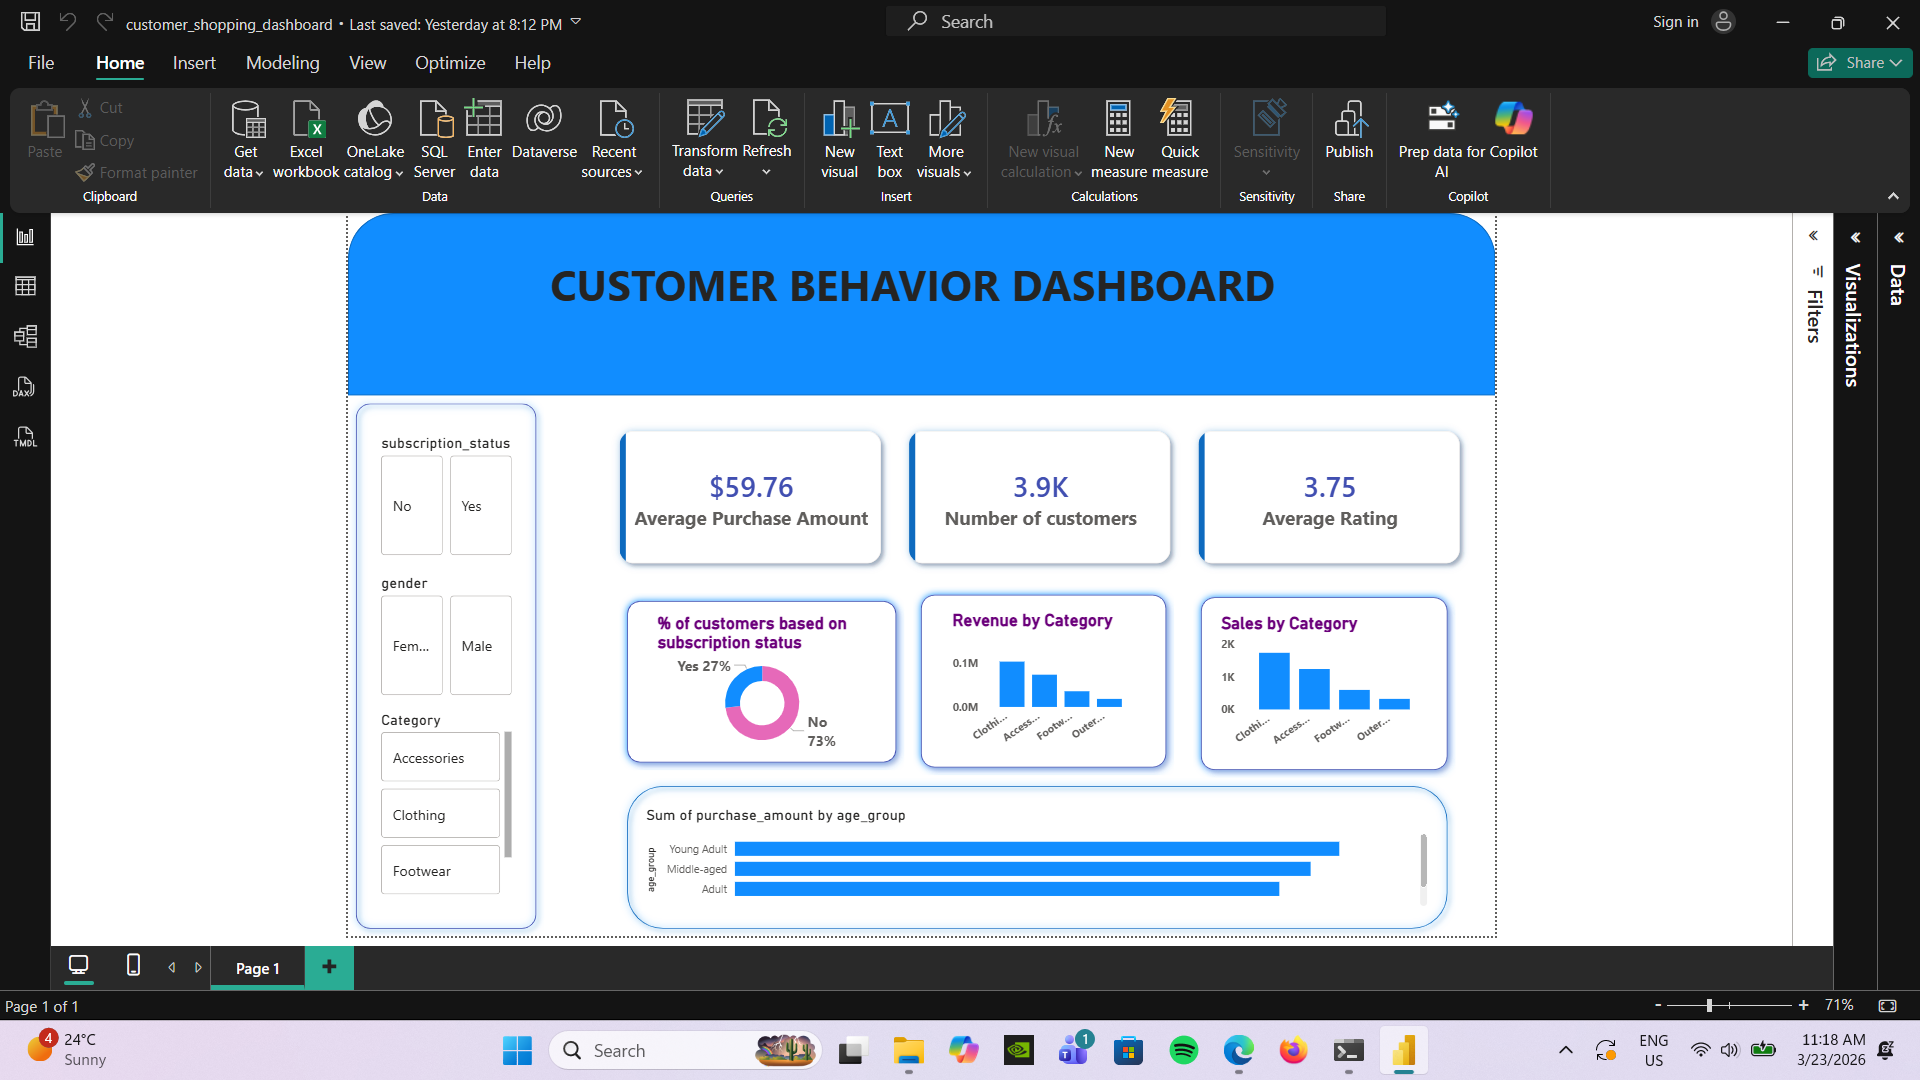

Layout of this report page (visuals, bound fields, positions):
{"tool":"powerbi","page":{"name":"Page 1","canvas":[1300,820],"ordinal":0},"visuals":[{"type":"cardVisual","fields":{"Data":["public customer.Average Purchase Amount","public customer.Number of customers","public customer.Average Rating"]},"box":[279.1,218.2,1011.5,208.3],"z":0},{"type":"shape","box":[0,0,1300.6,206.8],"z":1000},{"type":"textbox","box":[0,42.3,1280,100.8],"z":2000},{"type":"shape","box":[307.4,430.7,323,201.2],"z":3000},{"type":"donutChart","title":"% of customers based on subscription status","fields":{"Category":["public customer.subscription_status"],"Y":["CountNonNull(public customer.customer_id)"]},"box":[345.7,453.4,247.9,161.5],"z":4000},{"type":"shape","box":[640.4,423.6,296.1,213.9],"z":5000},{"type":"shape","box":[957.7,426.4,297.5,213.9],"z":6000},{"type":"clusteredColumnChart","title":"Revenue by Category","fields":{"Y":["Sum(public customer.purchase_amount)"],"Category":["public customer.category"]},"box":[680,450.5,218.2,161.5],"z":7000},{"type":"clusteredColumnChart","title":"Sales by Category","fields":{"Y":["CountNonNull(public customer.customer_id)"],"Category":["public customer.category"]},"box":[984.6,453.4,243.7,161.5],"z":8000},{"type":"advancedSlicerVisual","fields":{"Values":["public customer.subscription_status"]},"box":[32.6,250.8,158.7,143.1],"z":9000},{"type":"shape","box":[0,206.8,222.4,613.4],"z":10000},{"type":"advancedSlicerVisual","fields":{"Values":["public customer.gender"]},"box":[32.6,409.4,158.7,143.1],"z":11000},{"type":"advancedSlicerVisual","title":"Category","fields":{"Values":["public customer.category"]},"box":[32.6,563.9,158.7,215.3],"z":12000},{"type":"shape","box":[307.4,640.4,947.8,179.9],"z":13000},{"type":"clusteredBarChart","fields":{"Y":["Sum(public customer.purchase_amount)"],"Category":["public customer.age_group"]},"box":[332.9,671.5,895.4,119],"z":14000}]}

Visuals, with their boxes on the page's 1300x820 design canvas (x1, y1, x2, y2). These are canvas units, not pixel positions in the 1920x1080 screenshot, which may show the page scaled, cropped or inside an application window:
cardVisual - public customer.Average Purchase Amount x public customer.Number of customers: detection(279, 218, 1291, 426)
shape: detection(0, 0, 1301, 207)
textbox: detection(0, 42, 1280, 143)
shape: detection(307, 431, 630, 632)
"% of customers based on subscription status" donutChart: detection(346, 453, 594, 615)
shape: detection(640, 424, 936, 638)
shape: detection(958, 426, 1255, 640)
"Revenue by Category" clusteredColumnChart: detection(680, 450, 898, 612)
"Sales by Category" clusteredColumnChart: detection(985, 453, 1228, 615)
advancedSlicerVisual - public customer.subscription_status: detection(33, 251, 191, 394)
shape: detection(0, 207, 222, 820)
advancedSlicerVisual - public customer.gender: detection(33, 409, 191, 552)
"Category" advancedSlicerVisual: detection(33, 564, 191, 779)
shape: detection(307, 640, 1255, 820)
clusteredBarChart - Sum(public customer.purchase_amount) x public customer.age_group: detection(333, 672, 1228, 790)
